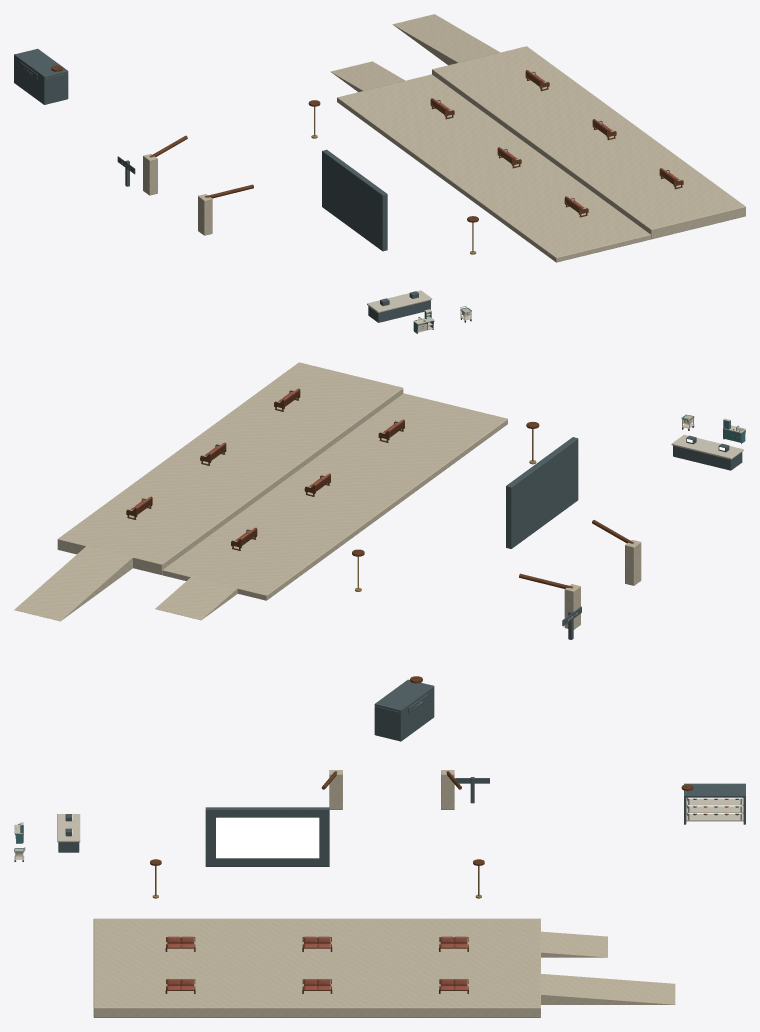
The model's file is SOL_D07_directory_04_source001.glb.
The picture shows the model from 3 angles, top to bottom: view 1: azimuth 30°, elevation 25°; view 2: azimuth 150°, elevation 25°; view 3: azimuth 270°, elevation 25°; orthographic projection. The views are drawn at different scales.
Parts seen in each view (by area): view 1: C_viewing_step1, C_viewing_step0, C_internal_view_focus, C_viewing_ramp1, C_viewing_ramp0, C_care_back, C_care_top, C_viewing_control_base, C_care_cheek_10.4, C_viewing_control_top, C_threshold_pier0, C_threshold_pier1; view 2: C_viewing_step1, C_viewing_step0, C_internal_view_focus, C_viewing_ramp1, C_viewing_ramp0, C_care_back, C_care_top, C_viewing_control_base, C_care_cheek_5.6, C_viewing_control_top, C_threshold_pier1; view 3: C_viewing_step1, C_viewing_step0, C_static_view_panel, C_viewing_ramp1, C_internal_view_focus, C_viewing_ramp0, C_care_top, C_viewing_control_top, C_threshold_pier1, C_threshold_pier0, C_care_shelf0.35, C_care_shelf1.7.
Part boxes in pixels (<box>): C_viewing_step1: <box>432,46,745,239</box>; C_viewing_step0: <box>337,74,650,262</box>; C_internal_view_focus: <box>322,149,387,251</box>; C_viewing_ramp1: <box>392,14,499,65</box>; C_viewing_ramp0: <box>330,61,405,91</box>; C_care_back: <box>14,54,45,104</box>; C_care_top: <box>16,48,68,77</box>; C_viewing_control_base: <box>368,300,430,322</box>; C_care_cheek_10.4: <box>46,73,68,104</box>; C_viewing_control_top: <box>367,290,432,312</box>; C_threshold_pier0: <box>143,154,157,195</box>; C_threshold_pier1: <box>198,194,212,235</box>; C_viewing_step1: <box>57,362,403,574</box>; C_viewing_step0: <box>162,393,507,600</box>; C_internal_view_focus: <box>506,437,578,548</box>; C_viewing_ramp1: <box>14,546,132,621</box>; C_viewing_ramp0: <box>155,577,237,620</box>; C_care_back: <box>399,685,434,741</box>; C_care_top: <box>374,679,431,711</box>; C_viewing_control_base: <box>673,445,742,470</box>; C_care_cheek_5.6: <box>374,706,399,740</box>; C_viewing_control_top: <box>671,434,743,459</box>; C_threshold_pier1: <box>625,540,641,585</box>; C_viewing_step1: <box>93,961,540,1017</box>; C_viewing_step0: <box>93,918,540,960</box>; C_static_view_panel: <box>216,817,319,858</box>; C_viewing_ramp1: <box>541,974,675,1004</box>; C_internal_view_focus: <box>205,807,329,866</box>; C_viewing_ramp0: <box>541,931,607,957</box>; C_care_top: <box>684,784,745,797</box>; C_viewing_control_top: <box>57,814,80,842</box>; C_threshold_pier1: <box>329,770,342,809</box>; C_threshold_pier0: <box>441,770,454,809</box>; C_care_shelf0.35: <box>686,813,743,821</box>; C_care_shelf1.7: <box>686,797,743,805</box>.
Bounding box in the file's own units: 41.16 × 5.1 × 58.92.
25 materials, 24 textured.
